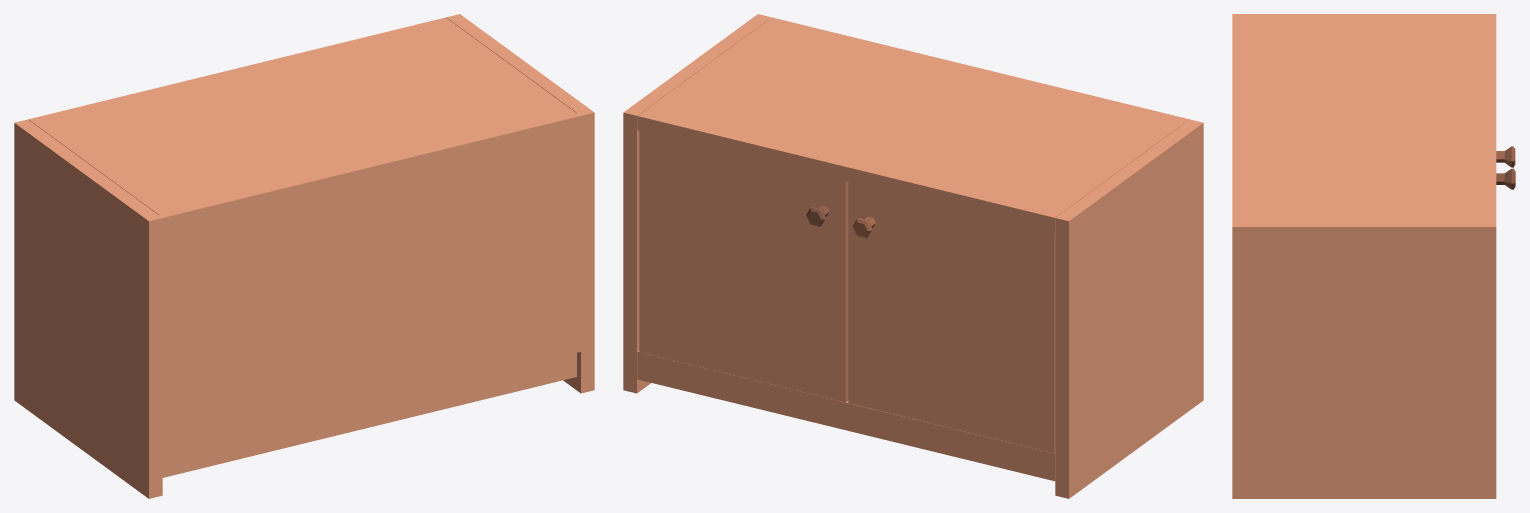
Rendered from Cupboard.fbx.
3 views of the same model, side by side, from view 1: azimuth 30°, elevation 25°; view 2: azimuth 150°, elevation 25°; view 3: azimuth 270°, elevation 25° (orthographic). The views are drawn at different scales.
Visible parts, largest first — view 1: Plane.005; view 2: Plane.005, Plane.041, Plane.040; view 3: Plane.005.
Part boxes in pixels (left/top/right/bottom): Plane.005: left=14, top=14, right=594, bottom=498; Plane.005: left=623, top=14, right=1203, bottom=498; Plane.041: left=639, top=131, right=848, bottom=402; Plane.040: left=848, top=182, right=1055, bottom=453; Plane.005: left=1232, top=14, right=1496, bottom=498.
Bounding box in the file's own units: 2.57 × 1.44 × 1.53.
